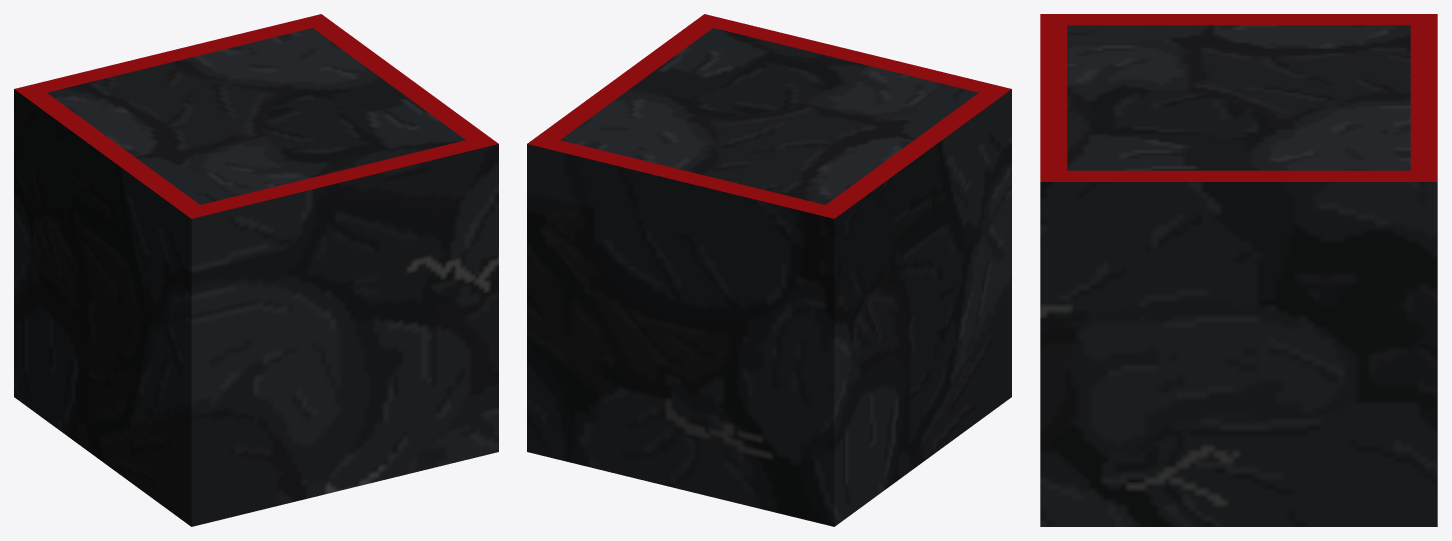
File: Trampa.glb
3 renders of one model, left to right at view 1: azimuth 30°, elevation 25°; view 2: azimuth 150°, elevation 25°; view 3: azimuth 270°, elevation 25°, orthographic. The views are drawn at different scales.
Visible parts, largest first — view 1: Baldosa_Trampa; view 2: Baldosa_Trampa; view 3: Baldosa_Trampa.
Boxes of the visible parts, box(x1,y1,x2,y2) form: Baldosa_Trampa: box(14, 14, 498, 526); Baldosa_Trampa: box(527, 14, 1011, 526); Baldosa_Trampa: box(1040, 14, 1437, 526).
Size of the model in its own units: 0.5891 by 0.5641 by 0.5891.
2 materials, 1 textured.
